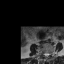CCS_normal: (45, 51, 47, 58)
LFS_normal: (48, 51, 50, 56)
LLS_normal: (47, 51, 48, 58)
RFS_normal: (42, 51, 44, 56)
RLS_normal: (44, 51, 45, 57)
